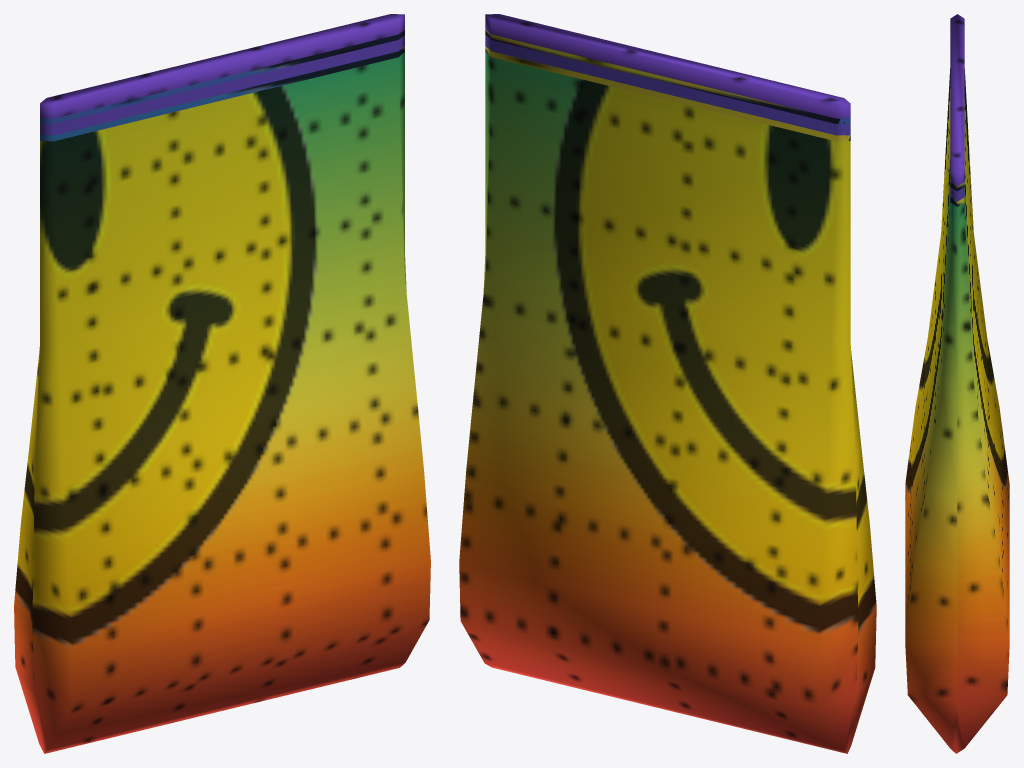
The model's file is DMT.FBX.
3 views of the same model, side by side, from view 1: azimuth 30°, elevation 25°; view 2: azimuth 150°, elevation 25°; view 3: azimuth 270°, elevation 25° (orthographic). The views are drawn at different scales.
Visible parts, largest first — view 1: DMT; view 2: DMT; view 3: DMT.
Boxes of the visible parts, x1,y1,x2,y2 form: DMT: (14, 14, 430, 753); DMT: (459, 14, 876, 753); DMT: (905, 14, 1009, 753).
Bounding box in the file's own units: 10.15 × 16.63 × 2.7.
